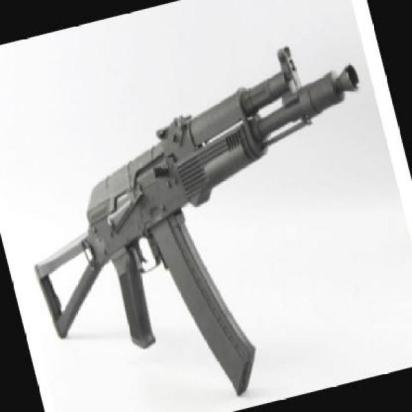Gun: (33, 39, 365, 397)
